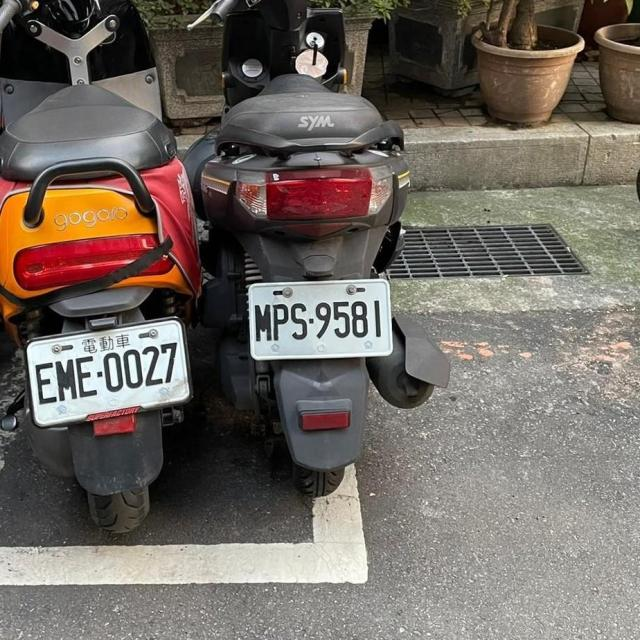W: (22, 315, 195, 430), (247, 278, 392, 362)
